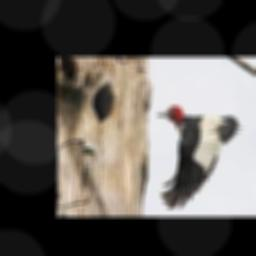Woodpecker: (158, 106, 244, 209)
